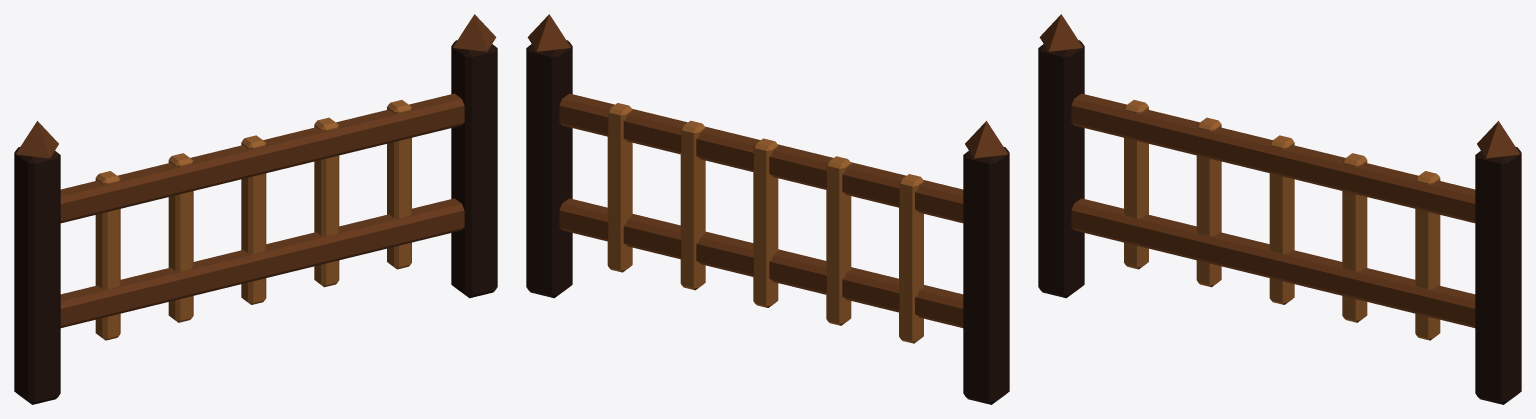
The model's file is Cerca_de_madeira_LOD0.fbx.
The picture shows the model from 3 angles, left to right: view 1: azimuth 30°, elevation 25°; view 2: azimuth 150°, elevation 25°; view 3: azimuth 330°, elevation 25°; orthographic projection.
Parts seen in each view (by area): view 1: Cerca_de_madeira_LOD0; view 2: Cerca_de_madeira_LOD0; view 3: Cerca_de_madeira_LOD0.
Part boxes in pixels (x1,y1,x2,y2): Cerca_de_madeira_LOD0: [14, 14, 497, 404]; Cerca_de_madeira_LOD0: [526, 14, 1009, 404]; Cerca_de_madeira_LOD0: [1038, 14, 1521, 404].
Size of the model in its own units: 264 by 145 by 24.
Materials: 1 (1 with a texture image).
